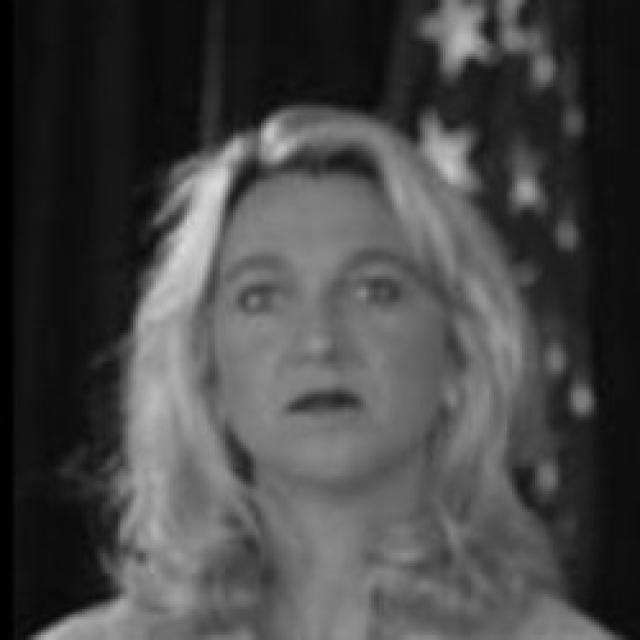real: (194, 161, 464, 481), (215, 263, 422, 333)
